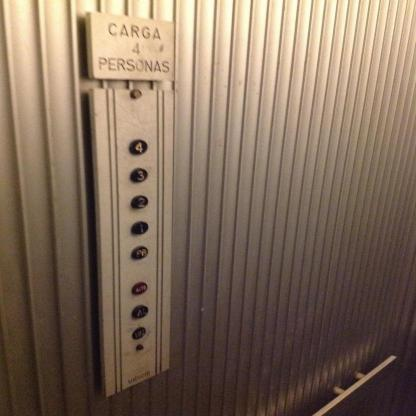1: (132, 221, 148, 236)
2: (131, 193, 148, 211)
3: (130, 167, 147, 184)
4: (128, 137, 147, 157)
PB: (130, 245, 148, 259)
text: (131, 281, 147, 296), (131, 326, 146, 340)
unknown: (131, 303, 149, 319)
